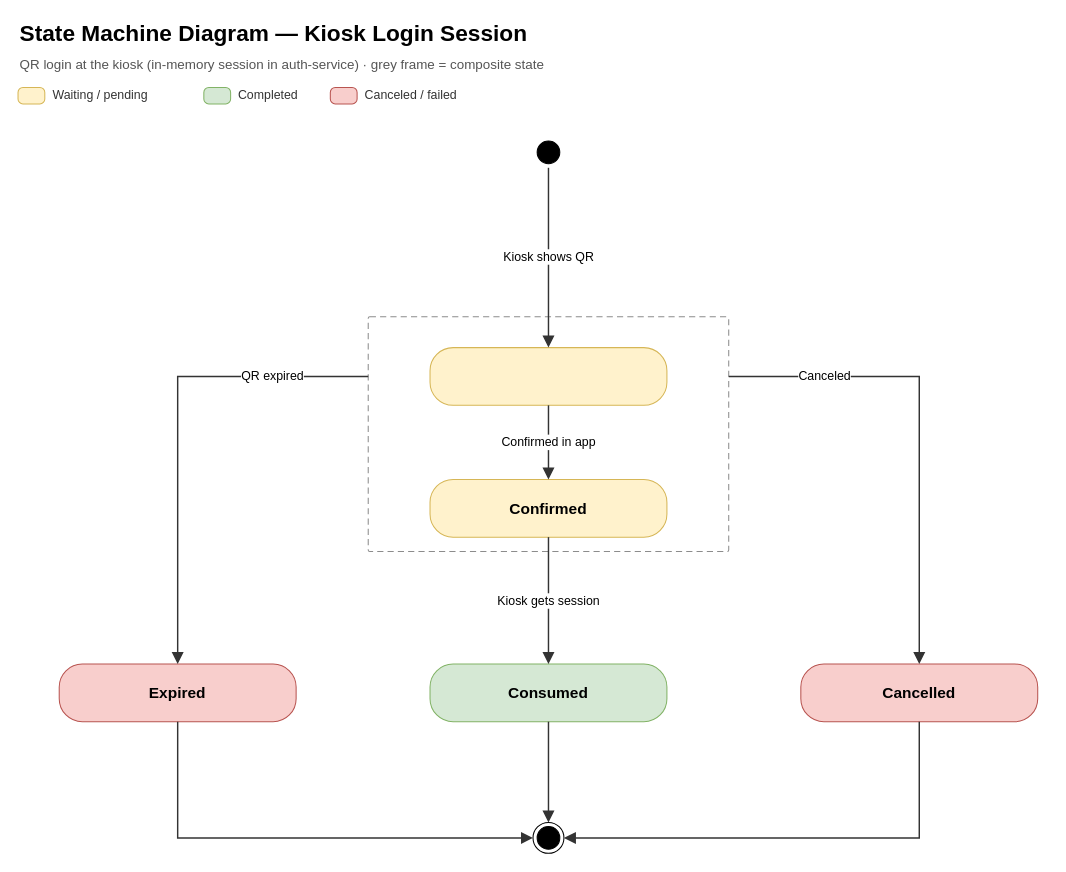
Image size: 1066x872. Some labels were removed from this diagram. Here are the shapes that lost their labels. From the top down, the box of each, then its label:
(429, 347, 667, 405): Pending
(367, 316, 729, 552): Waiting For Login
